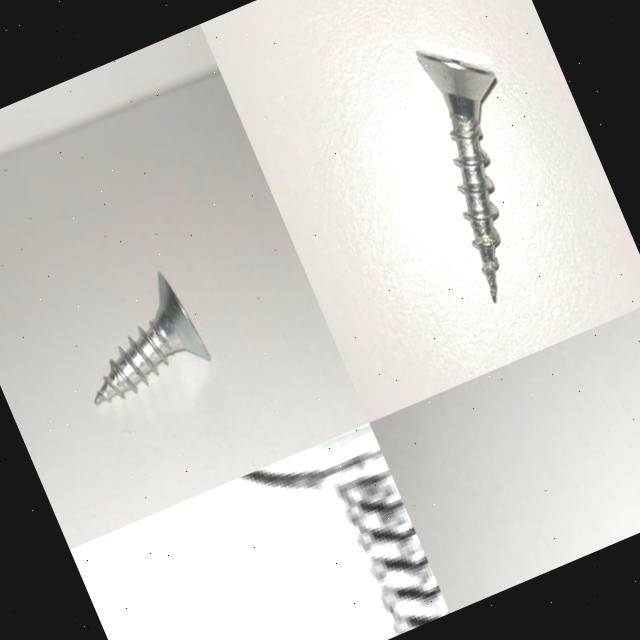Screw: (238, 422, 450, 637), (416, 49, 500, 301), (94, 270, 210, 404)
